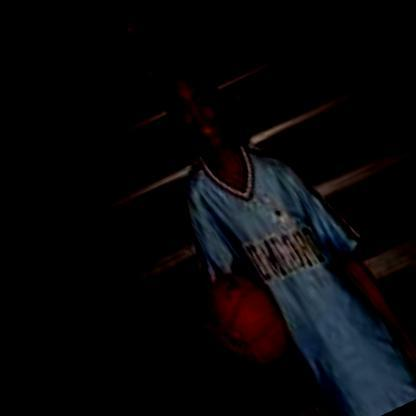basketball: (166, 249, 303, 381)
